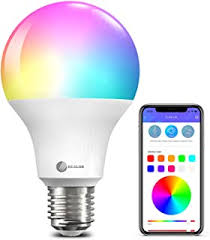bulb: (1, 3, 143, 164)
